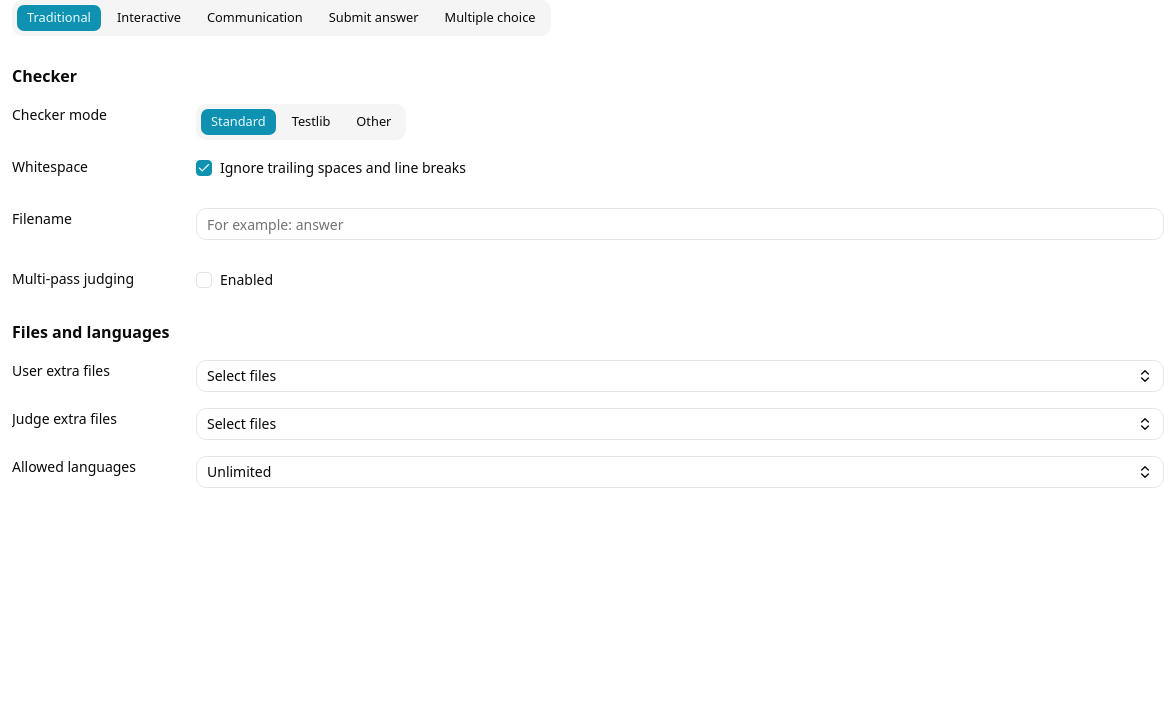
Scenario: BasicConfigTab › shows fields for the selected problem type
This screenshot has width=1176, height=720.
Expected: the field labelled "Filename" is shown, top-left (196, 208), bottom-right (1164, 240)
Click the radio button labelled "Interactive".
click(149, 18)  # box top-left (106, 4), bottom-right (192, 32)
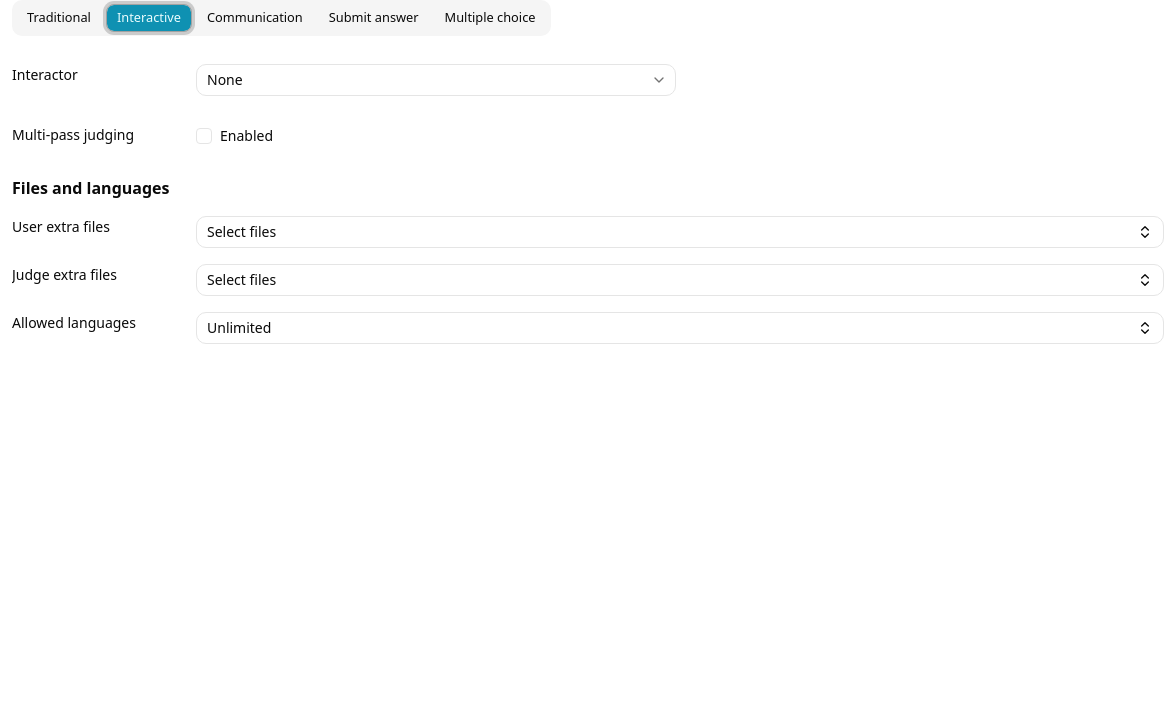
Expected: the dropdown named "Interactor" is shown, top-left (196, 64), bottom-right (676, 96)
Expected: the label "Filename" is gone
Click the radio button labelled "Communication".
click(255, 18)  # box top-left (196, 4), bottom-right (314, 32)
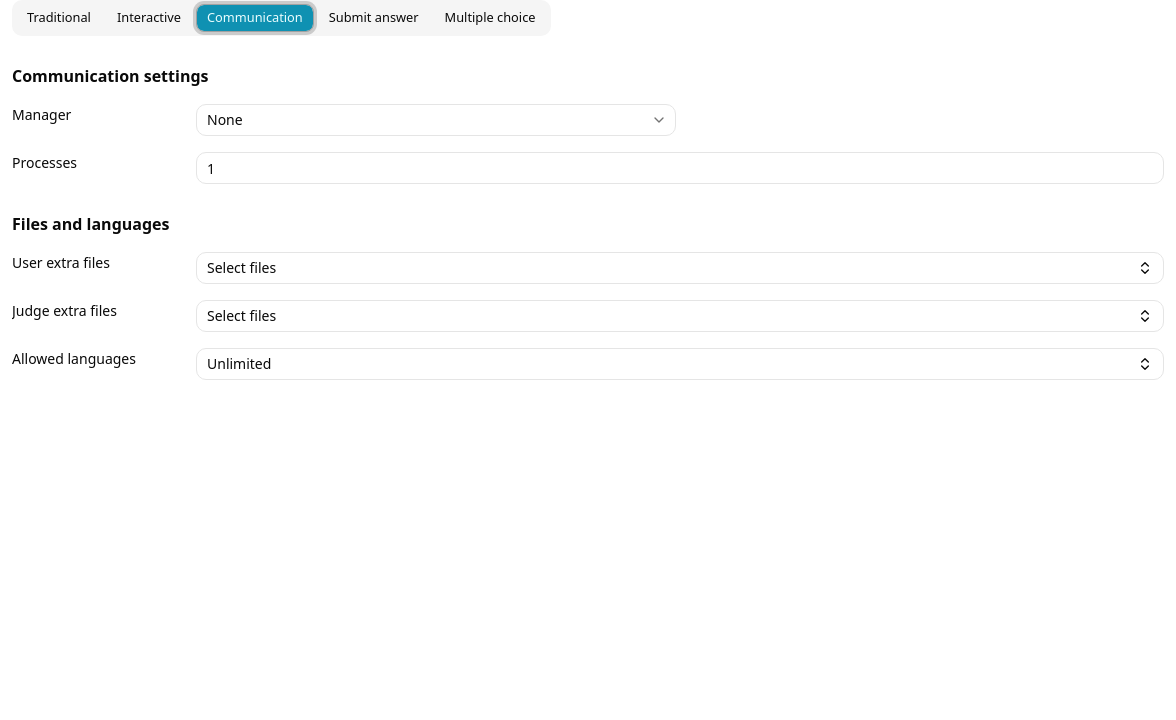
Expected: the number field labelled "Processes" is shown, top-left (196, 152), bottom-right (1164, 184)
